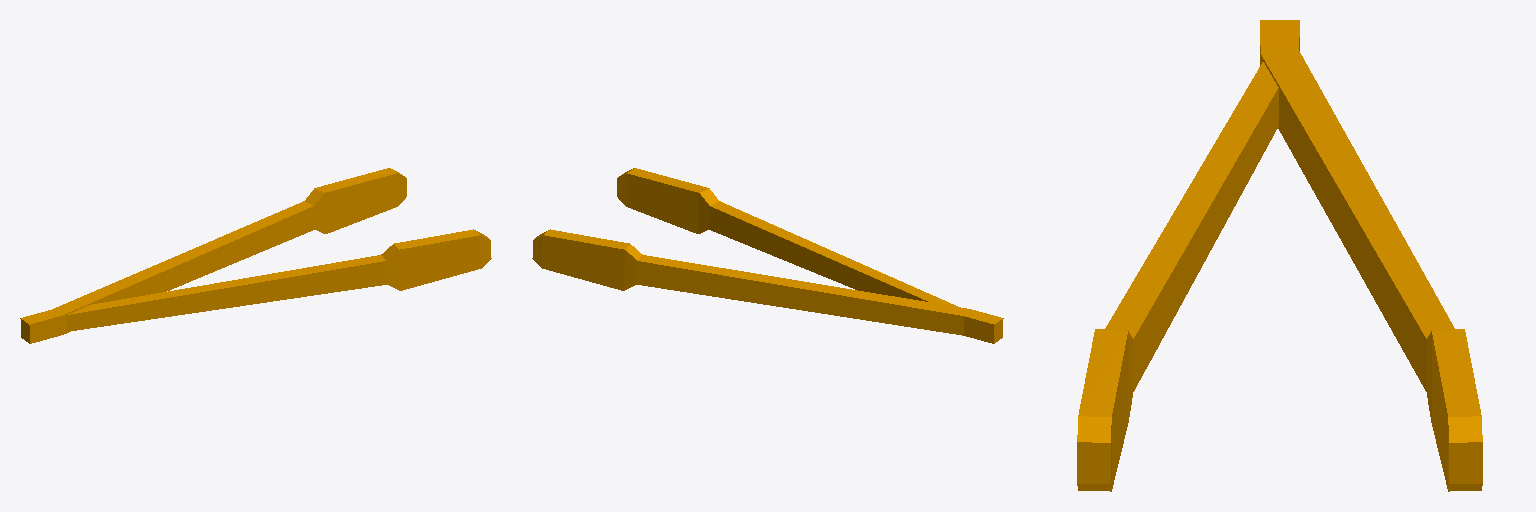
robot.urdf — tongs:
<?xml version="0.0" ?>
<robot name="tongs">
  <link name="tongs">
  <contact>
      <lateral_friction value="1"/>
  </contact>
    <inertial>
      <origin rpy="0 0 0" xyz="0 0 0"/>
       <mass value="0.2"/>
       <inertia ixx="0.019" ixy="0" ixz="0" iyy="0.019" iyz="0" izz="0.019"/>
    </inertial>
    <visual>
      <origin rpy="0 0 0" xyz="0 0 0"/>
      <geometry>
	<mesh filename="TongsVisual.obj" scale="1 1 1"/>
      </geometry>
    </visual>
    <collision>
      <origin rpy="0 0 0" xyz="0 0 0"/>
      <geometry>
	<mesh filename="TongsCollision.obj" scale="1 1 1"/>
      </geometry>
    </collision>
  </link>
</robot>

--- What the picture shows (computed from the rendered views, not written in the file) ---
Views: 3 orthographic renders of the robot side by side, from view 1: azimuth 30°, elevation 25°; view 2: azimuth 150°, elevation 25°; view 3: azimuth 270°, elevation 25°.
Model tongs with 1 links and 0 joints (none), rooted at tongs, posed all joints at 0.
Visible links, largest first — view 1: tongs; view 2: tongs; view 3: tongs.
Boxes of the visible links, box(x1,y1,x2,y2) form: tongs: box(20, 168, 491, 343); tongs: box(532, 168, 1003, 343); tongs: box(1077, 20, 1482, 491).
Size in the robot's own frame: 0.4646 by 0.1766 by 0.0442 metres.
1 mesh visuals loaded from 1 distinct referenced files (1 OBJ).